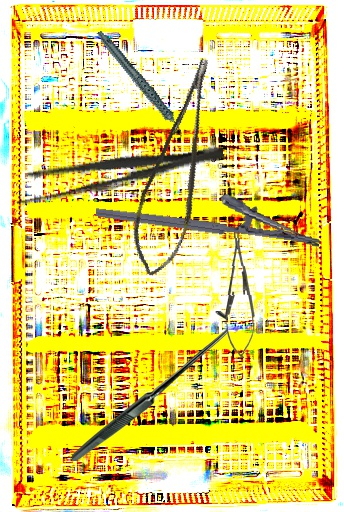Dressing Forceps: (11, 133, 227, 210)
Handpiece: (96, 17, 185, 152)
Hook Surgical: (72, 311, 228, 461)
Micro Scissor: (115, 55, 248, 283)
Needle Holder: (95, 175, 325, 250), (222, 231, 257, 359)
